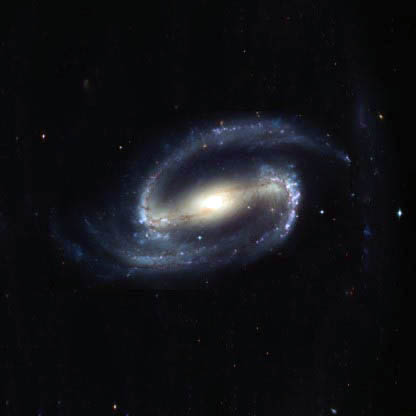NGC 1300: (55, 116, 376, 288)
